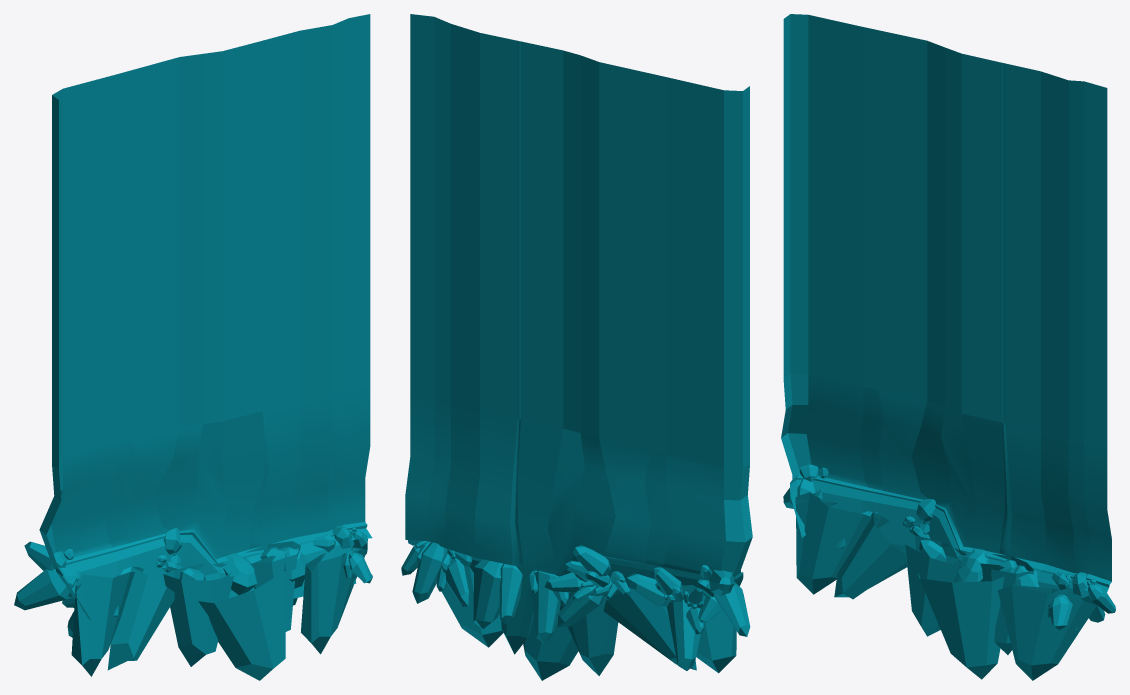
The model's file is Roof_Modular_stepup.fbx.
3 renders of one model, left to right at view 1: azimuth 30°, elevation 25°; view 2: azimuth 150°, elevation 25°; view 3: azimuth 330°, elevation 25°, orthographic. The views are drawn at different scales.
Visible parts, largest first — view 1: Roof_stepup_modul; view 2: Roof_stepup_modul; view 3: Roof_stepup_modul.
Boxes of the visible parts, x1=… form: Roof_stepup_modul: x1=14, y1=14, x2=372, y2=680; Roof_stepup_modul: x1=401, y1=14, x2=752, y2=680; Roof_stepup_modul: x1=781, y1=14, x2=1115, y2=680.
Size of the model in its own units: 5.2 by 9.09 by 1.21.
